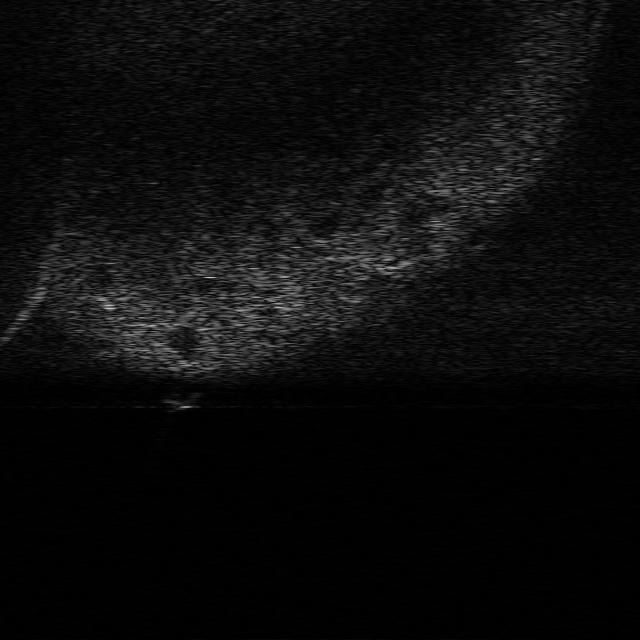cube: (161, 388, 204, 411)
